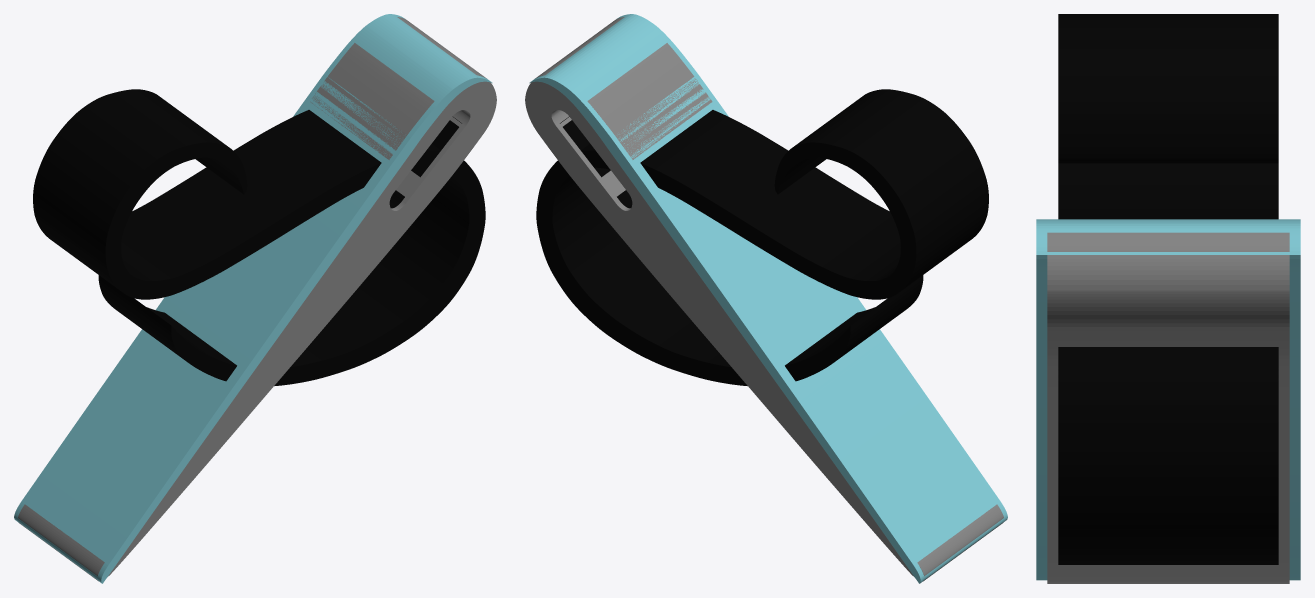
File: U+1FAA1.obj
The picture shows the model from 3 angles, left to right: view 1: azimuth 30°, elevation 25°; view 2: azimuth 150°, elevation 25°; view 3: azimuth 270°, elevation 25°; orthographic projection. The views are drawn at different scales.
Visible parts, largest first — view 1: U+1FAA1_layer02_obj00, U+1FAA1_layer00_obj00, U+1FAA1_layer01_obj00, U+1FAA1_layer00_obj01, U+1FAA1_layer00_obj02; view 2: U+1FAA1_layer02_obj00, U+1FAA1_layer00_obj00, U+1FAA1_layer01_obj00, U+1FAA1_layer00_obj01, U+1FAA1_layer00_obj02; view 3: U+1FAA1_layer00_obj01, U+1FAA1_layer00_obj00, U+1FAA1_layer01_obj00, U+1FAA1_layer02_obj00.
Part boxes in pixels (x1,y1,x2,y2): U+1FAA1_layer02_obj00: [14, 14, 492, 583]; U+1FAA1_layer00_obj00: [33, 89, 381, 299]; U+1FAA1_layer01_obj00: [18, 17, 496, 581]; U+1FAA1_layer00_obj01: [98, 144, 485, 386]; U+1FAA1_layer00_obj02: [389, 116, 461, 208]; U+1FAA1_layer02_obj00: [529, 14, 1007, 583]; U+1FAA1_layer00_obj00: [640, 89, 988, 299]; U+1FAA1_layer01_obj00: [525, 17, 1003, 581]; U+1FAA1_layer00_obj01: [536, 144, 923, 386]; U+1FAA1_layer00_obj02: [560, 116, 632, 208]; U+1FAA1_layer00_obj01: [1058, 347, 1278, 564]; U+1FAA1_layer00_obj00: [1058, 14, 1278, 219]; U+1FAA1_layer01_obj00: [1047, 232, 1289, 583]; U+1FAA1_layer02_obj00: [1036, 219, 1300, 580].
Bounding box in the file's own units: 0.3175 × 0.3159 × 0.12.
